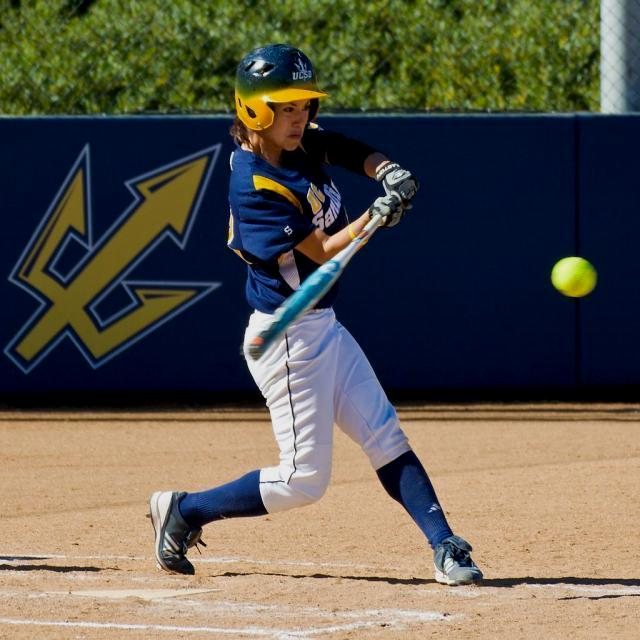baseball bat: (243, 210, 384, 360)
